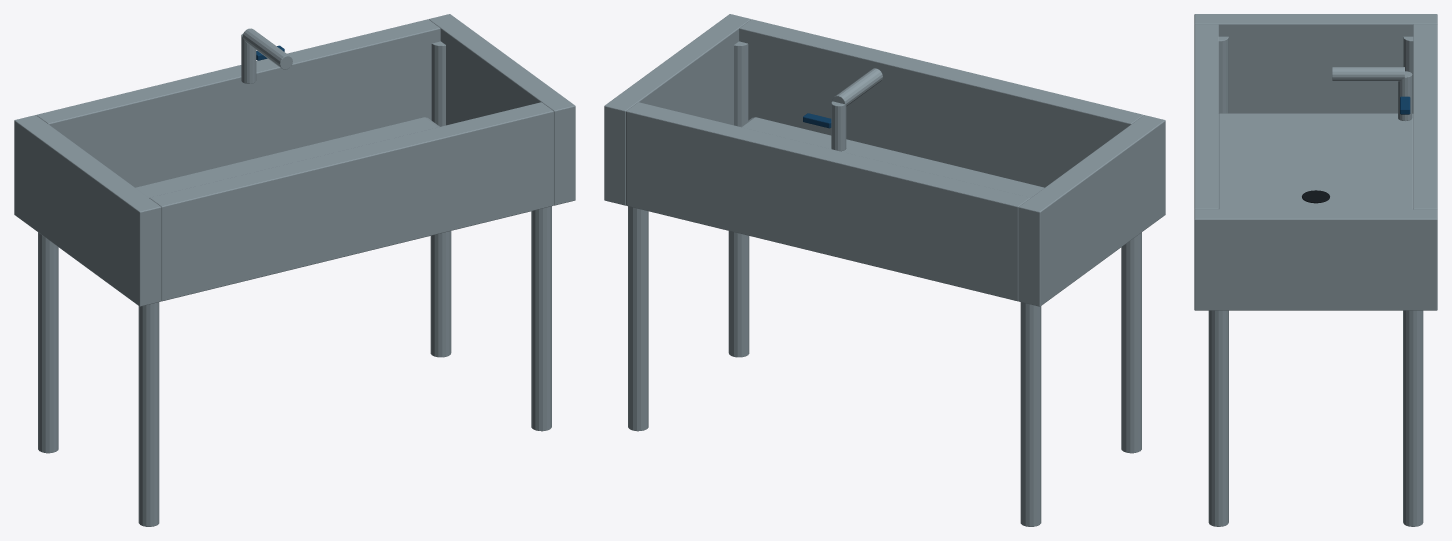
File: edited.glb
3 renders of one model, left to right at view 1: azimuth 30°, elevation 25°; view 2: azimuth 150°, elevation 25°; view 3: azimuth 270°, elevation 25°, orthographic. The views are drawn at different scales.
Parts seen in each view (by area): view 1: BASIN_Rim.001, BASIN_Rim, BASIN_Side.001, BASIN_Side, LEG, LEG.002, LEG.001, BASIN_Bottom, LEG.003, FAUCET_Spout, FAUCET_Vertical; view 2: BASIN_Rim, BASIN_Rim.001, BASIN_Side.001, BASIN_Side, LEG.001, LEG.003, LEG, BASIN_Bottom, LEG.002, FAUCET_Spout, FAUCET_Vertical; view 3: BASIN_Side, BASIN_Bottom, BASIN_Side.001, BASIN_Rim.001, BASIN_Rim, LEG.002, LEG.003, FAUCET_Spout, LEG, FAUCET_Vertical, LEG.001, DRAIN.
Boxes of the visible parts, x1,y1,x2,y2 form: BASIN_Rim.001: [149, 102, 553, 301]; BASIN_Rim: [36, 19, 440, 187]; BASIN_Side.001: [14, 115, 161, 306]; BASIN_Side: [429, 14, 575, 205]; LEG: [138, 302, 159, 526]; LEG.002: [531, 206, 551, 431]; LEG.001: [38, 232, 58, 453]; BASIN_Bottom: [135, 117, 439, 197]; LEG.003: [430, 41, 451, 357]; FAUCET_Spout: [242, 28, 292, 69]; FAUCET_Vertical: [241, 34, 256, 83]; BASIN_Rim: [626, 102, 1030, 301]; BASIN_Rim.001: [739, 19, 1143, 187]; BASIN_Side.001: [1018, 115, 1165, 306]; BASIN_Side: [604, 14, 750, 205]; LEG.001: [1020, 302, 1041, 526]; LEG.003: [628, 206, 648, 431]; LEG: [1121, 232, 1141, 453]; BASIN_Bottom: [740, 117, 1044, 197]; LEG.002: [728, 41, 749, 357]; FAUCET_Spout: [832, 68, 882, 106]; FAUCET_Vertical: [831, 101, 846, 151]; BASIN_Side: [1194, 209, 1437, 310]; BASIN_Bottom: [1218, 113, 1413, 209]; BASIN_Side.001: [1194, 14, 1437, 113]; BASIN_Rim.001: [1194, 24, 1218, 209]; BASIN_Rim: [1413, 24, 1437, 209]; LEG.002: [1208, 310, 1228, 526]; LEG.003: [1403, 310, 1423, 526]; FAUCET_Spout: [1332, 67, 1404, 81]; LEG: [1218, 36, 1228, 113]; FAUCET_Vertical: [1398, 71, 1412, 120]; LEG.001: [1403, 36, 1413, 113]; DRAIN: [1302, 190, 1329, 203].
Bounding box in the file's own units: 1.2 × 0.988 × 0.6.
